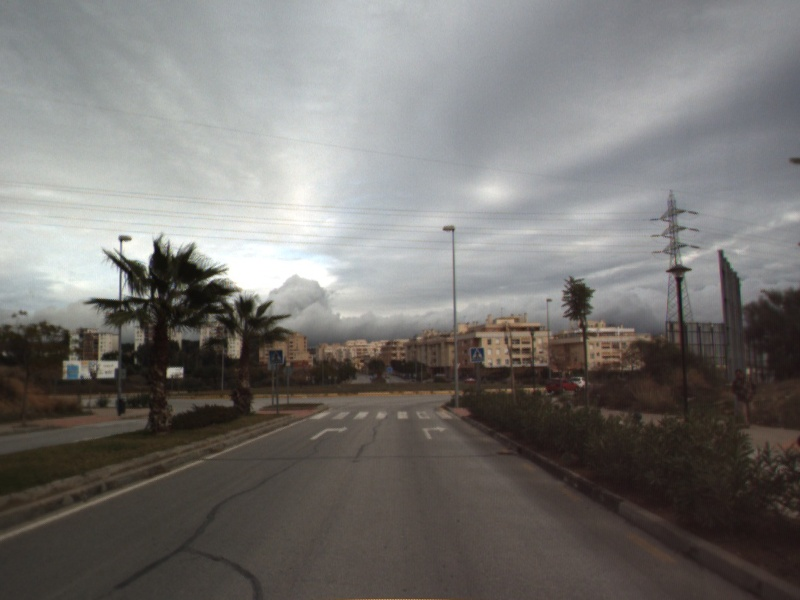RIGHT: (308, 424, 350, 442), (420, 424, 449, 441)
